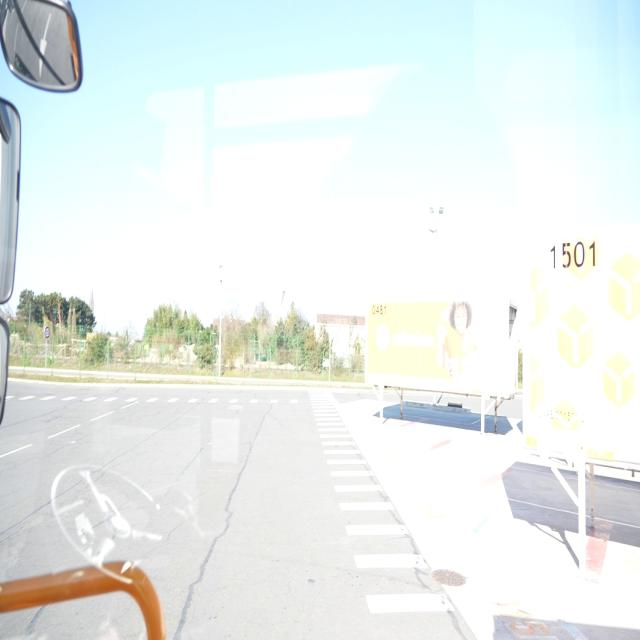Code: (544, 234, 600, 274), (367, 300, 389, 318)
